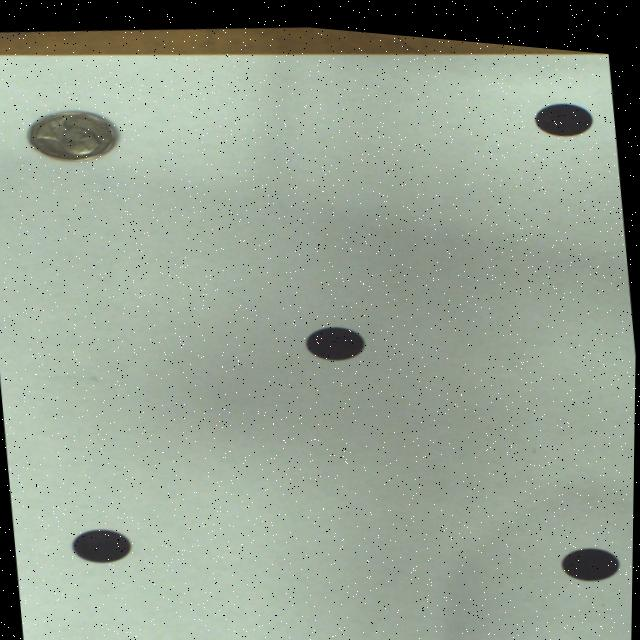head5bath: (28, 110, 116, 160)
space: (72, 527, 132, 561), (305, 320, 364, 353), (533, 93, 591, 126), (562, 537, 620, 569)
